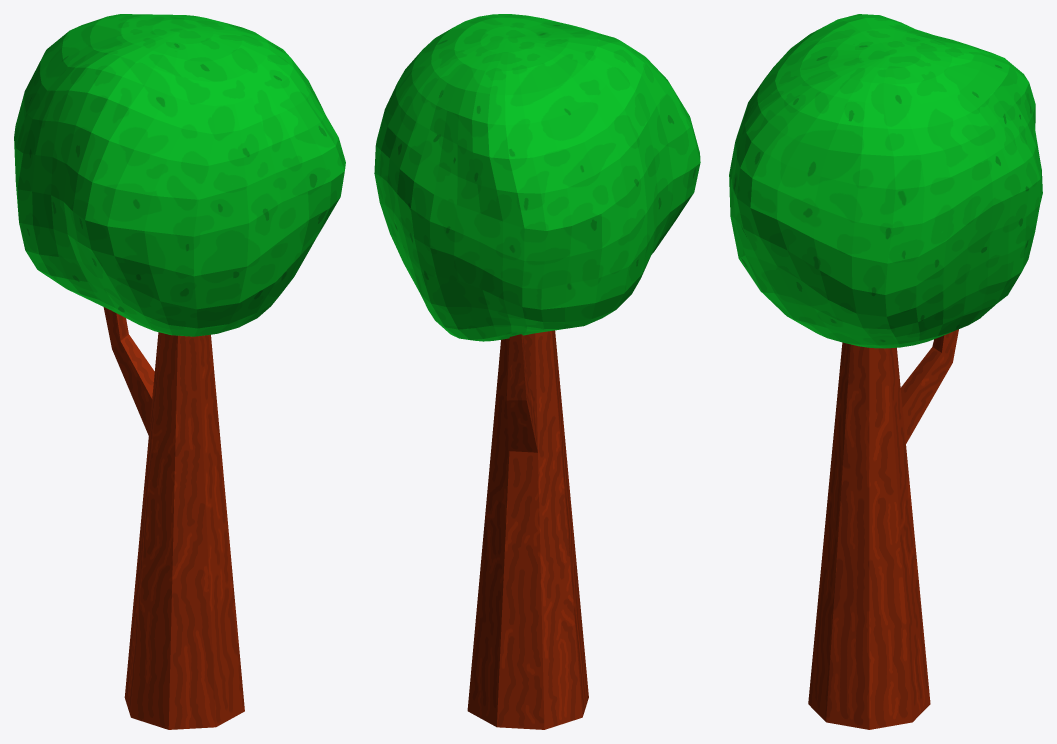
The model's file is tree.fbx.
3 views of the same model, side by side, from view 1: azimuth 30°, elevation 25°; view 2: azimuth 150°, elevation 25°; view 3: azimuth 270°, elevation 25° (orthographic). The views are drawn at different scales.
Parts seen in each view (by area): view 1: Leaves, Trunk; view 2: Leaves, Trunk; view 3: Leaves, Trunk.
Boxes of the visible parts, x1=… form: Leaves: x1=14, y1=14, x2=345, y2=336; Trunk: x1=103, y1=307, x2=244, y2=729; Leaves: x1=374, y1=14, x2=700, y2=341; Trunk: x1=467, y1=330, x2=588, y2=729; Leaves: x1=729, y1=14, x2=1042, y2=348; Trunk: x1=808, y1=329, x2=958, y2=729.
Size of the model in its own units: 182 by 430 by 187.
Materials: 2 (2 with a texture image).
